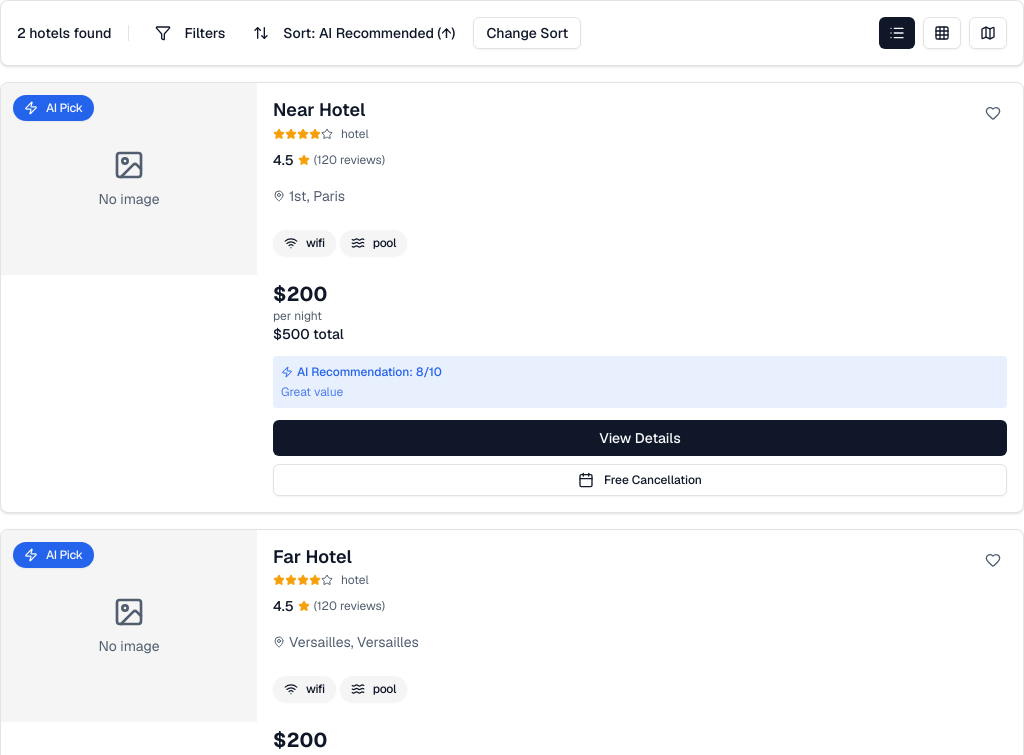
Test: HotelResults › distance sorting › includes distance in sort cycle when searchCenter is provided
The width and height of the screenshot is (1024, 755).
Click the button "Change Sort" at {"x": 527, "y": 33}, box [473,17,581,49]
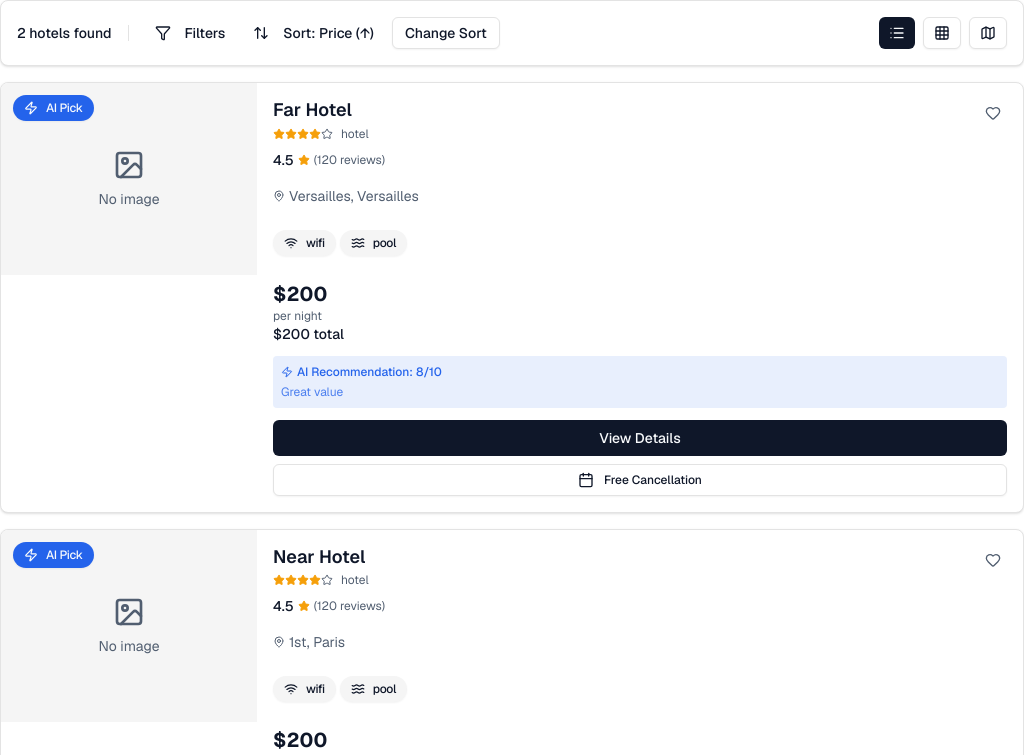
Click the button "Change Sort" at {"x": 446, "y": 33}, box [392,17,500,49]
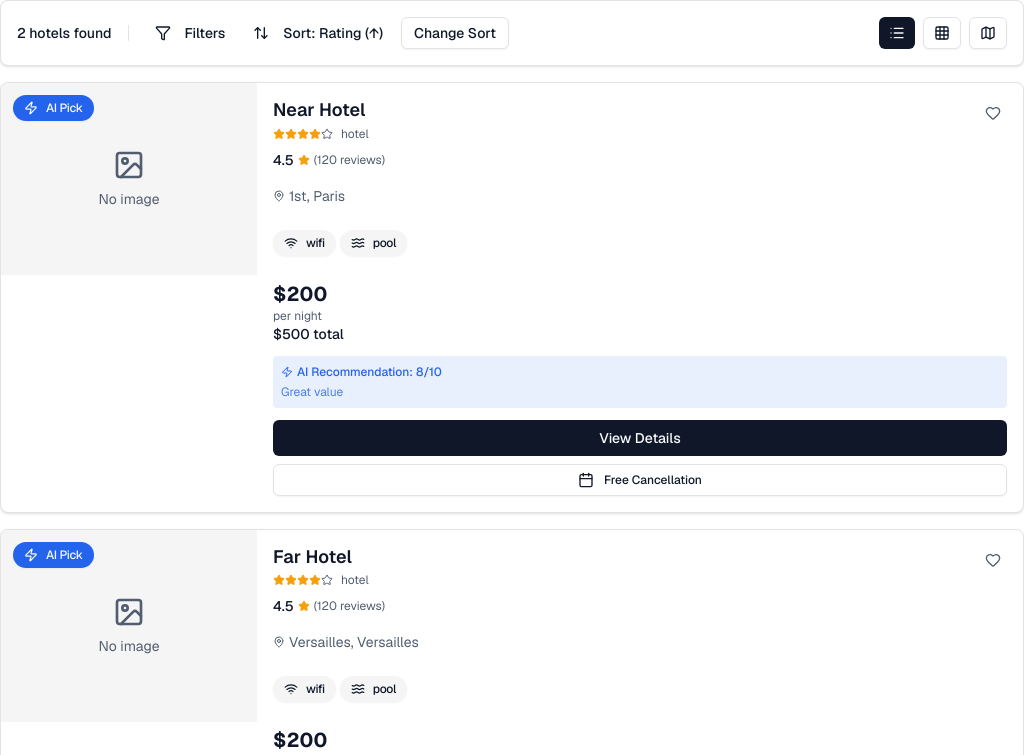
Click the button "Change Sort" at {"x": 455, "y": 33}, box [401,17,509,49]
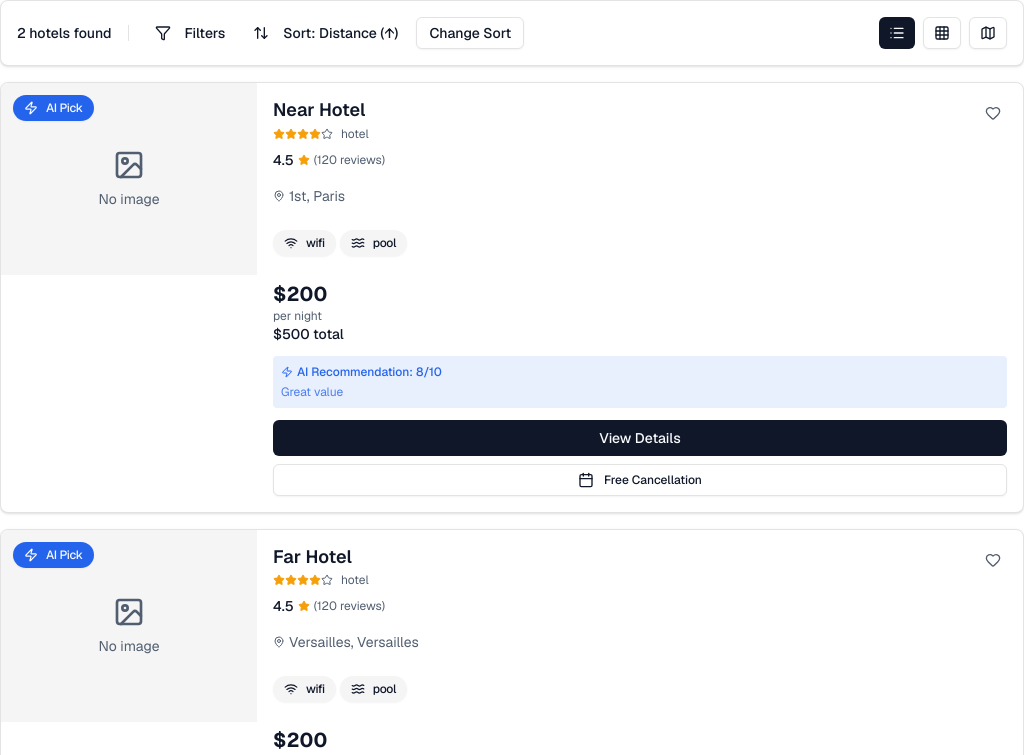
Result: the button "Sort: Distance (↑)" is shown at [243,17,408,49]
